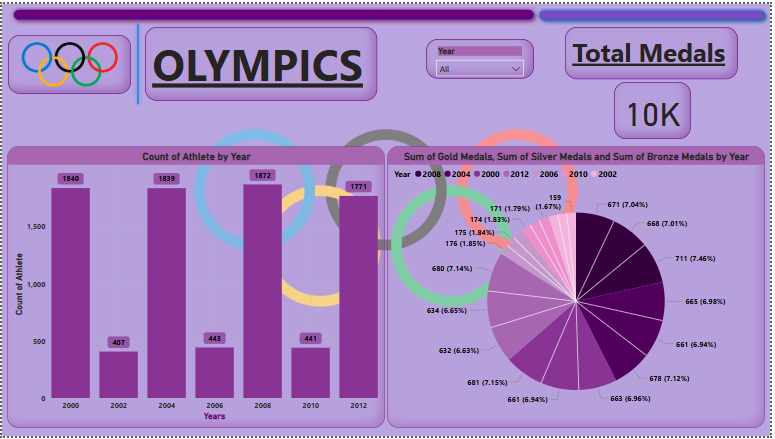

Layout of this report page (visuals, bound fields, positions):
{"tool":"powerbi","page":{"name":"Page 2","canvas":[1280,720],"ordinal":1},"visuals":[{"type":"shape","box":[10,0,886,36],"z":0},{"type":"shape","box":[886,2,394,34],"z":1000},{"type":"image","box":[10,51.7,205,98.3],"z":2000},{"type":"shape","box":[211.7,25,30,150],"z":3000},{"type":"textbox","box":[238.3,38.3,386.7,123.3],"z":4000},{"type":"textbox","box":[938.3,38.3,288.3,86.7],"z":5000},{"type":"card","fields":{"Values":["Sum(OlympicAthletes.Total Medals)"]},"box":[1020,130,128.3,95],"z":6000},{"type":"lineStackedColumnComboChart","fields":{"Category":["OlympicAthletes.Year"],"Y":["CountNonNull(OlympicAthletes.Athlete)"]},"box":[8.3,236.7,630,470],"z":7000},{"type":"pieChart","fields":{"Category":["OlympicAthletes.Year"],"Y":["Sum(OlympicAthletes.Gold Medals)","Sum(OlympicAthletes.Silver Medals)","Sum(OlympicAthletes.Bronze Medals)"]},"box":[641.7,236.7,630,470],"z":8000},{"type":"slicer","fields":{"Values":["OlympicAthletes.Year"]},"box":[706.3,58.7,179.9,66.3],"z":9000}]}

Visuals, with their boxes in screenshot pixels (x1, y1, x2, y2), scaled from the page's 1280x720 canvas onto the 775x439 screenshot:
shape: detection(6, 0, 542, 22)
shape: detection(536, 1, 774, 22)
image: detection(6, 32, 130, 91)
shape: detection(128, 15, 146, 107)
textbox: detection(144, 23, 378, 99)
textbox: detection(568, 23, 743, 76)
card - Sum(OlympicAthletes.Total Medals): detection(618, 79, 695, 137)
lineStackedColumnComboChart - OlympicAthletes.Year x CountNonNull(OlympicAthletes.Athlete): detection(5, 144, 386, 431)
pieChart - OlympicAthletes.Year x Sum(OlympicAthletes.Gold Medals): detection(389, 144, 770, 431)
slicer - OlympicAthletes.Year: detection(428, 36, 537, 76)
